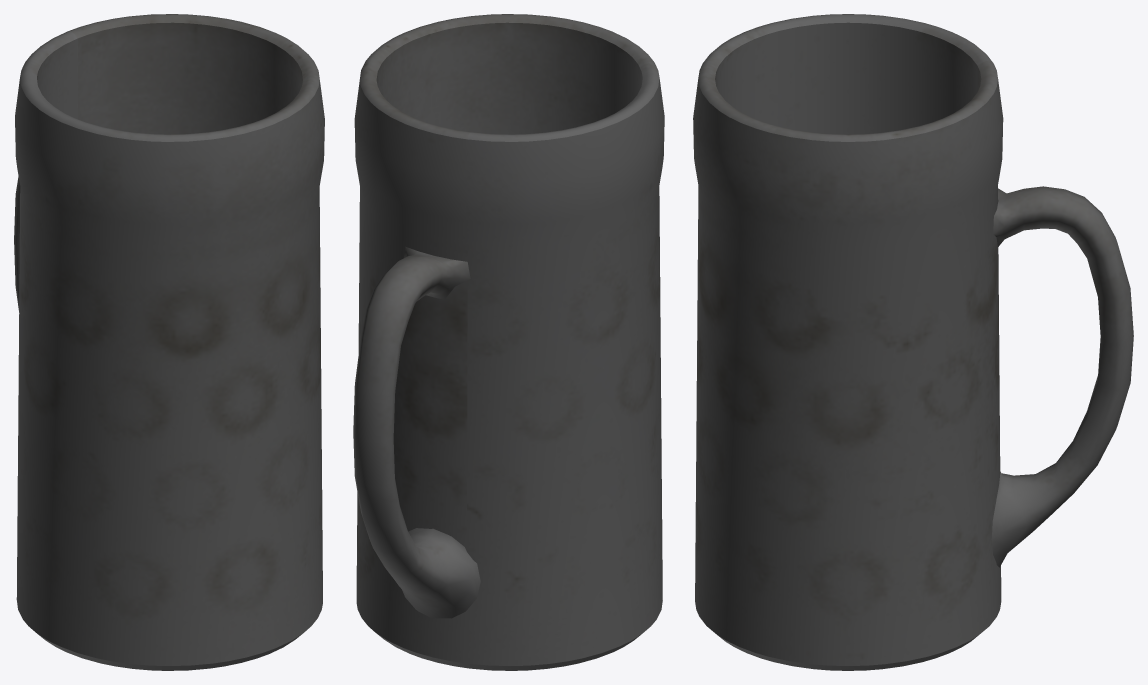
Rendered from Prop_Beer_Glass_x3.fbx.
3 views of the same model, side by side, from view 1: azimuth 30°, elevation 25°; view 2: azimuth 150°, elevation 25°; view 3: azimuth 270°, elevation 25° (orthographic).
Parts seen in each view (by area): view 1: Prop_Beer_Glass_x3; view 2: Prop_Beer_Glass_x3; view 3: Prop_Beer_Glass_x3.
Boxes of the visible parts, x1,y1,x2,y2 form: Prop_Beer_Glass_x3: (14,14,324,670); Prop_Beer_Glass_x3: (353,14,664,670); Prop_Beer_Glass_x3: (693,14,1133,670).
Bounding box in the file's own units: 5.57 × 10.61 × 7.92.
